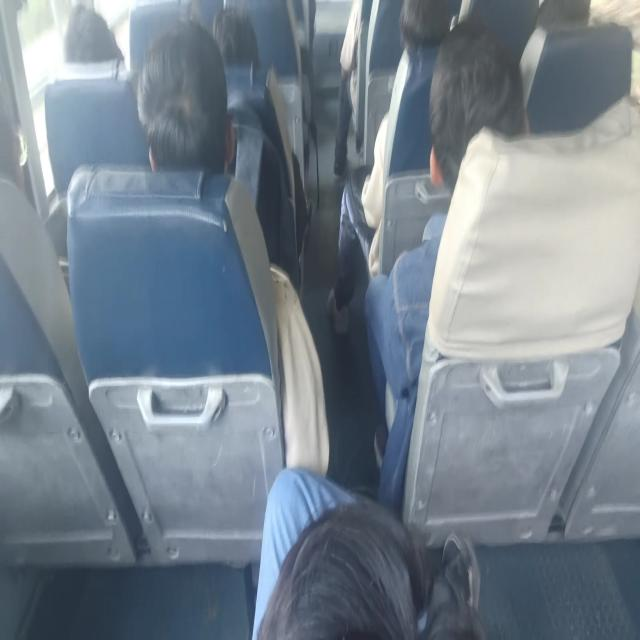person: (251, 502, 481, 640), (424, 43, 522, 194), (156, 38, 230, 179), (200, 4, 262, 77), (63, 6, 129, 65), (0, 107, 40, 187), (402, 0, 452, 62), (524, 0, 602, 36)
